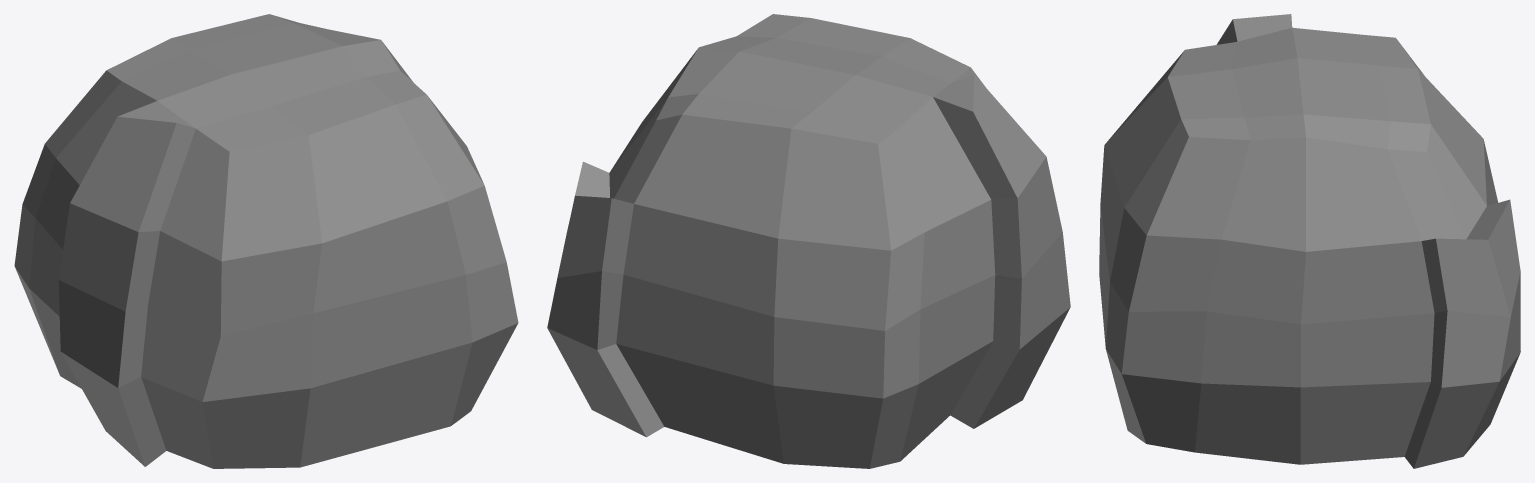
File: rock.glb
3 renders of one model, left to right at view 1: azimuth 30°, elevation 25°; view 2: azimuth 150°, elevation 25°; view 3: azimuth 270°, elevation 25°, orthographic. The views are drawn at different scales.
Visible parts, largest first — view 1: Rock; view 2: Rock; view 3: Rock.
Boxes of the visible parts, left/top/right/bottom form: Rock: left=14, top=14, right=518, bottom=468; Rock: left=547, top=14, right=1070, bottom=468; Rock: left=1099, top=14, right=1520, bottom=468.
Bounding box in the file's own units: 2.21 × 1.75 × 2.08.
1 material, 1 textured.
